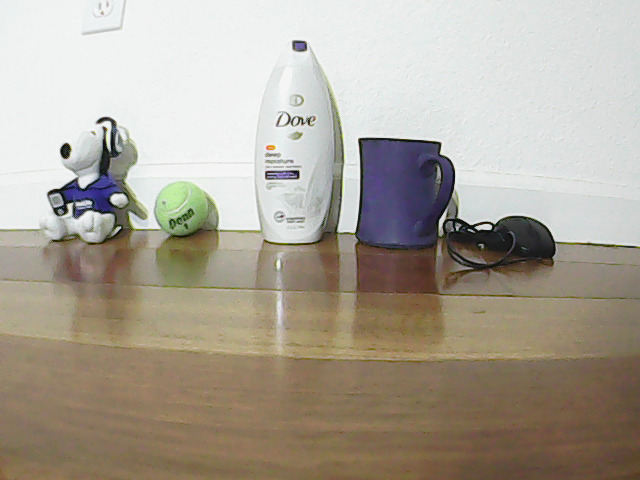ball: (158, 171, 215, 241)
mouse: (487, 196, 591, 273)
mug: (358, 127, 451, 253)
snoopy: (49, 104, 142, 251)
soap: (254, 16, 337, 249)
